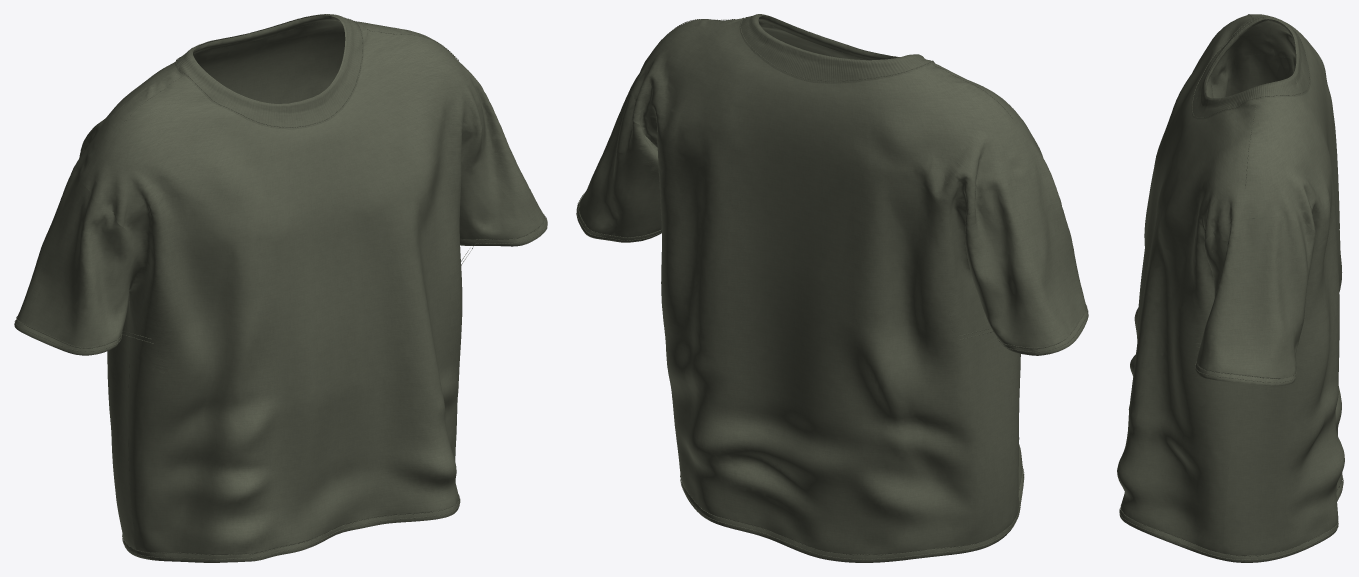
Rendered from field-tee-v2.glb.
3 views of the same model, side by side, from view 1: azimuth 30°, elevation 25°; view 2: azimuth 150°, elevation 25°; view 3: azimuth 270°, elevation 25° (orthographic). The views are drawn at different scales.
Visible parts, largest first — view 1: Left sleeve and back side panel, Front and right sleeve, Back body panel, Rib-knit neck binding, Turned sleeve cuffs and lower hem, Twin needle hems and shoulder stitching; view 2: Left sleeve and back side panel, Back body panel, Front and right sleeve, Rib-knit neck binding, Turned sleeve cuffs and lower hem, Twin needle hems and shoulder stitching; view 3: Left sleeve and back side panel, Front and right sleeve, Back body panel, Rib-knit neck binding, Turned sleeve cuffs and lower hem, Twin needle hems and shoulder stitching.
Part boxes in pixels (left/top/right/bottom): Left sleeve and back side panel: left=17, top=21, right=482, bottom=554; Front and right sleeve: left=75, top=15, right=547, bottom=549; Back body panel: left=79, top=20, right=390, bottom=534; Rib-knit neck binding: left=175, top=14, right=363, bottom=129; Turned sleeve cuffs and lower hem: left=14, top=218, right=547, bottom=562; Twin needle hems and shoulder stitching: left=14, top=18, right=547, bottom=559; Left sleeve and back side panel: left=631, top=18, right=1086, bottom=554; Back body panel: left=635, top=23, right=1013, bottom=543; Front and right sleeve: left=577, top=15, right=1049, bottom=554; Rib-knit neck binding: left=739, top=14, right=934, bottom=83; Turned sleeve cuffs and lower hem: left=576, top=198, right=1088, bottom=562; Twin needle hems and shoulder stitching: left=576, top=17, right=1088, bottom=559; Left sleeve and back side panel: left=1117, top=14, right=1342, bottom=555; Front and right sleeve: left=1117, top=18, right=1339, bottom=555; Back body panel: left=1223, top=21, right=1344, bottom=554; Rib-knit neck binding: left=1191, top=16, right=1310, bottom=119; Turned sleeve cuffs and lower hem: left=1119, top=363, right=1342, bottom=562; Twin needle hems and shoulder stitching: left=1119, top=14, right=1343, bottom=560.
Bounding box in the file's own units: 0.7442 × 0.6851 × 0.3144.
1 material, 1 textured.
